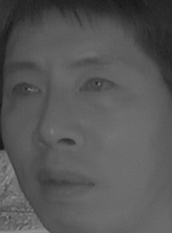eye: (79, 75, 120, 100), (10, 79, 44, 102)
mouth: (32, 164, 96, 202)
